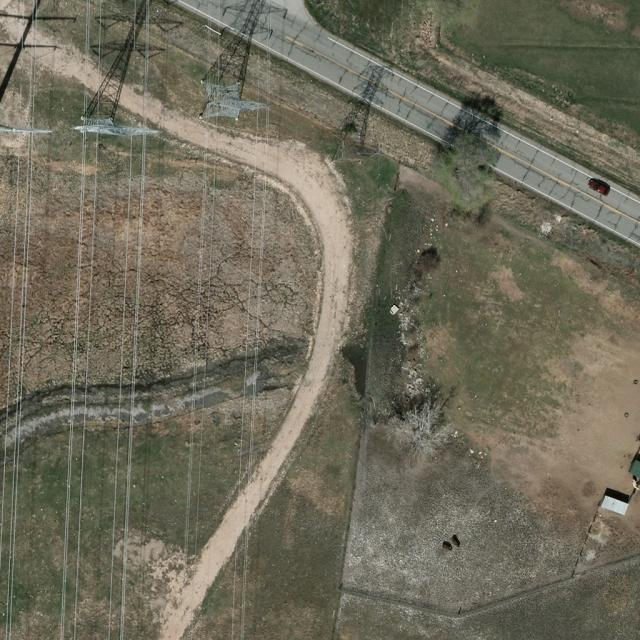vehicle: (586, 178, 612, 198)
